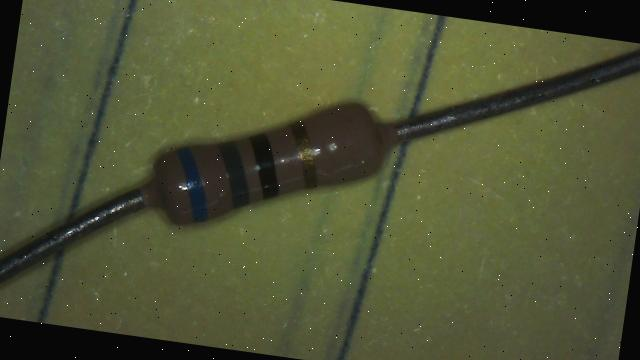black: (242, 131, 286, 200)
blue: (167, 146, 216, 223)
gold: (281, 120, 324, 188)
grey: (210, 140, 256, 210)
resistor: (115, 65, 407, 260)
